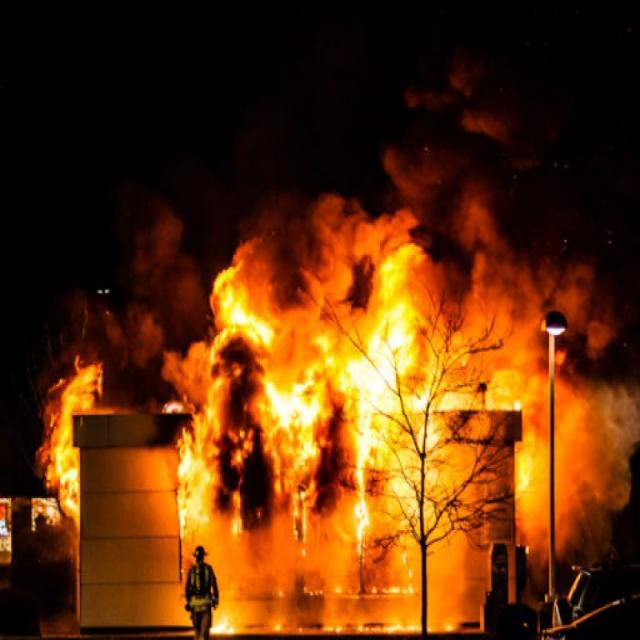Smoke: (353, 57, 640, 573), (44, 166, 420, 414)
